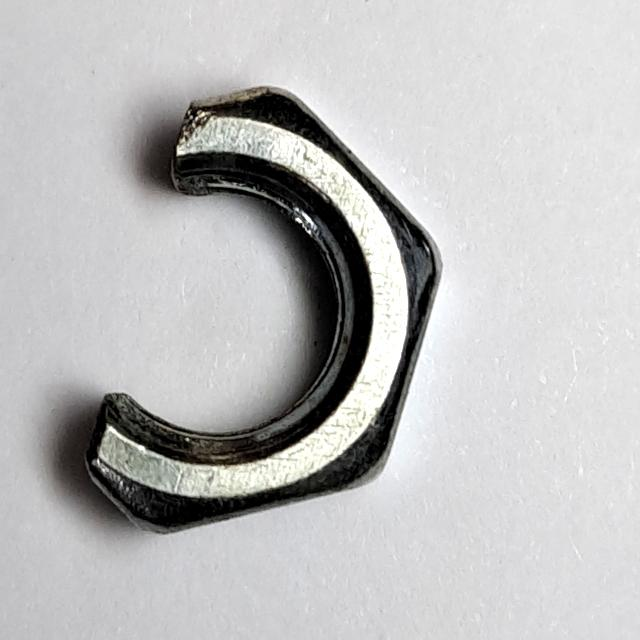Fracture: (66, 73, 457, 555)
